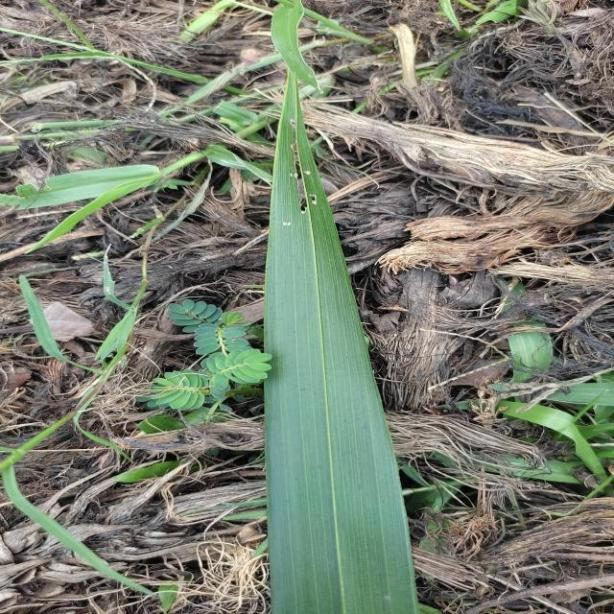Boron: (260, 0, 420, 614)
